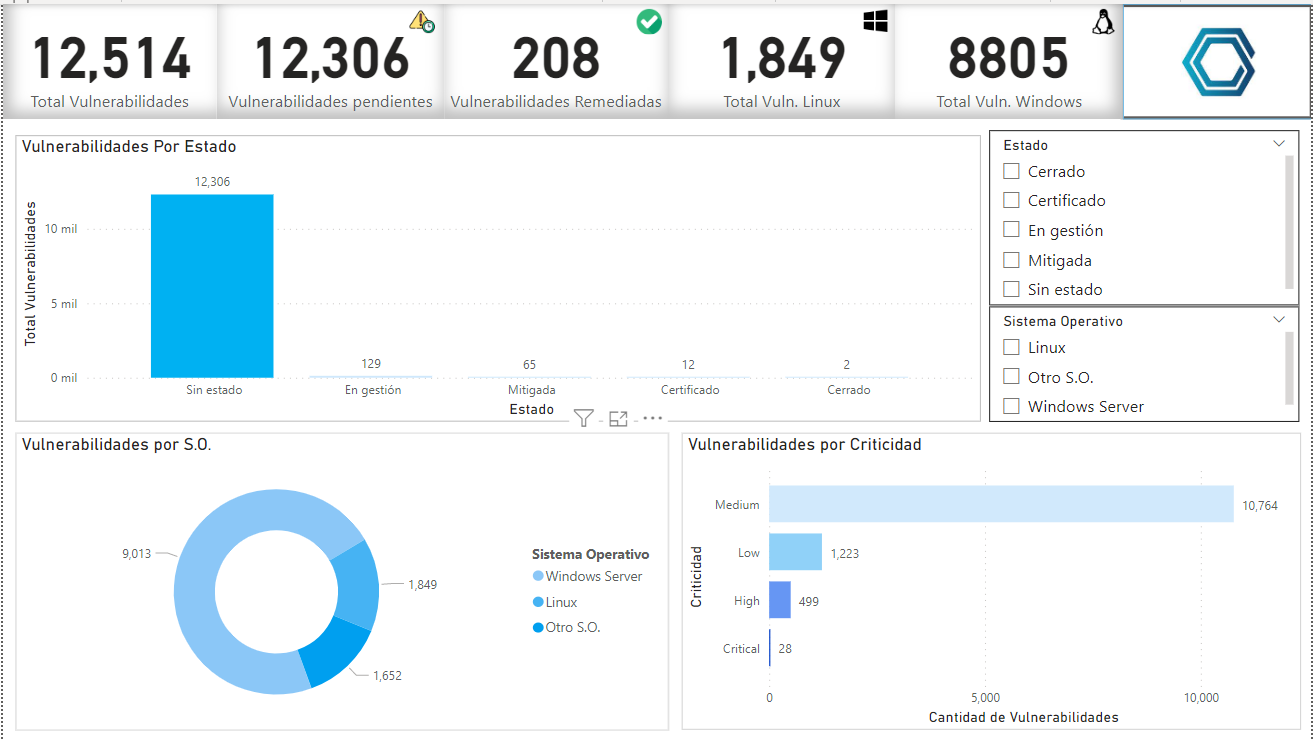

This screenshot's page, from the dashboard's own definition file:
{"tool":"powerbi","page":{"name":" Gestión Vulnerabilidades","canvas":[1280,720],"ordinal":1},"visuals":[{"type":"card","fields":{"Values":["Fact Vuln.Total Vulnerabilidades"]},"box":[0,0,209,112.5],"z":0},{"type":"card","fields":{"Values":["Fact Vuln.Total Vulnerabilidades"]},"box":[430.9,0,220.9,112.5],"z":1000},{"type":"card","fields":{"Values":["Fact Vuln.Total Vulnerabilidades"]},"box":[208.6,0,222.3,112.5],"z":2000},{"type":"actionButton","box":[1092.3,0,188,112.5],"z":3000},{"type":"image","title":"FUNDACION GRUPO SOCIAL","box":[1095,0,185.2,112.5],"z":4000},{"type":"card","fields":{"Values":["Fact Vuln.Total Vuln. Linux"]},"box":[650.4,0,222.3,112.5],"z":5000},{"type":"card","fields":{"Values":["Fact Vuln.Total Vuln. Windows"]},"box":[872.7,0,222.3,112.5],"z":5001},{"type":"image","box":[836.1,0,34.2,33],"z":5002},{"type":"image","box":[1058.6,0,34.2,34.2],"z":5003},{"type":"image","box":[612,0,38.4,34.3],"z":5004},{"type":"image","box":[388.3,0,42.5,34.3],"z":5005},{"type":"clusteredColumnChart","title":"Vulnerabilidades Por Estado","fields":{"Y":["Fact Vuln.Total Vulnerabilidades"],"Category":["Dim Remediadas.Estado"]},"box":[12.2,128.4,943.7,279.9],"z":5006},{"type":"slicer","fields":{"Values":["Fact Vuln.Categoria_S.O."]},"box":[964.7,296.4,303.3,112.5],"z":5007},{"type":"donutChart","title":"Vulnerabilidades por S.O.","fields":{"Y":["Fact Vuln.Total Vulnerabilidades"],"Category":["Fact Vuln.Categoria_S.O."]},"box":[12.2,419.3,639.3,290.9],"z":5008},{"type":"clusteredBarChart","title":"Vulnerabilidades por Criticidad","fields":{"Y":["Fact Vuln.Total Vulnerabilidades"],"Category":["Fact Vuln.Risk"]},"box":[663.3,419.7,605.4,290.7],"z":5009},{"type":"slicer","fields":{"Values":["Dim Remediadas.Estado"]},"box":[964.7,123.5,303.3,171.5],"z":5010}]}

Visuals, with their boxes on the page's 1280x720 design canvas (x1, y1, x2, y2). These are canvas units, not pixel positions in the 1313x740 screenshot, which may show the page scaled, cropped or inside an application window:
card - Fact Vuln.Total Vulnerabilidades: left=0, top=0, right=209, bottom=112
card - Fact Vuln.Total Vulnerabilidades: left=431, top=0, right=652, bottom=112
card - Fact Vuln.Total Vulnerabilidades: left=209, top=0, right=431, bottom=112
actionButton: left=1092, top=0, right=1280, bottom=112
"FUNDACION GRUPO SOCIAL" image: left=1095, top=0, right=1280, bottom=112
card - Fact Vuln.Total Vuln. Linux: left=650, top=0, right=873, bottom=112
card - Fact Vuln.Total Vuln. Windows: left=873, top=0, right=1095, bottom=112
image: left=836, top=0, right=870, bottom=33
image: left=1059, top=0, right=1093, bottom=34
image: left=612, top=0, right=650, bottom=34
image: left=388, top=0, right=431, bottom=34
"Vulnerabilidades Por Estado" clusteredColumnChart: left=12, top=128, right=956, bottom=408
slicer - Fact Vuln.Categoria_S.O.: left=965, top=296, right=1268, bottom=409
"Vulnerabilidades por S.O." donutChart: left=12, top=419, right=652, bottom=710
"Vulnerabilidades por Criticidad" clusteredBarChart: left=663, top=420, right=1269, bottom=710
slicer - Dim Remediadas.Estado: left=965, top=124, right=1268, bottom=295
